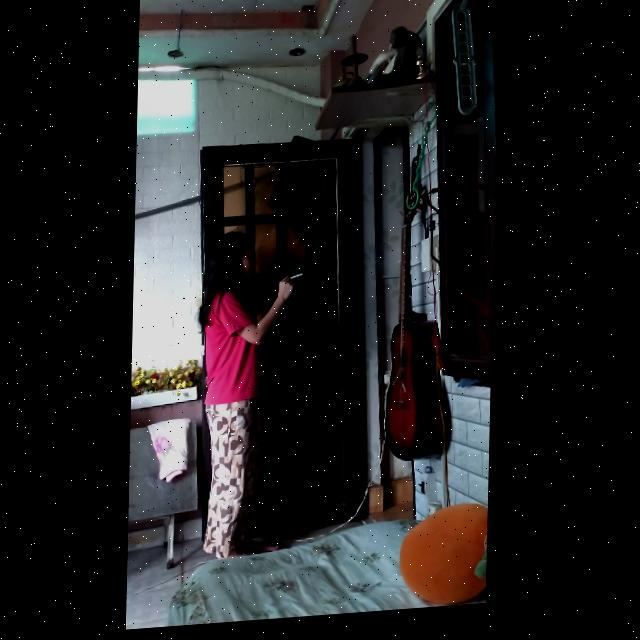cigarette: (292, 278, 304, 285)
